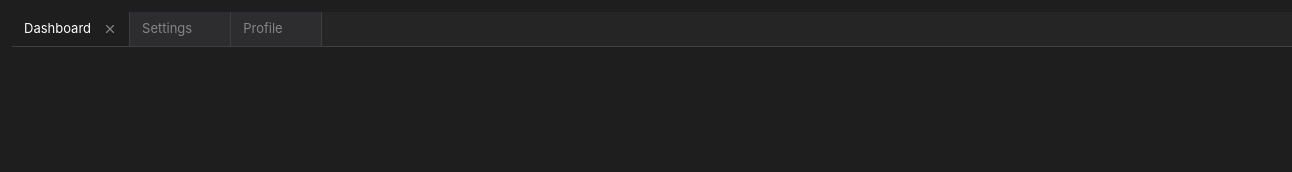
Test: TabBar › context menu › enables Close to the Right when not the last tab
Right-click the tab "Dashboard" at (56, 29), box [12,13,99,45]
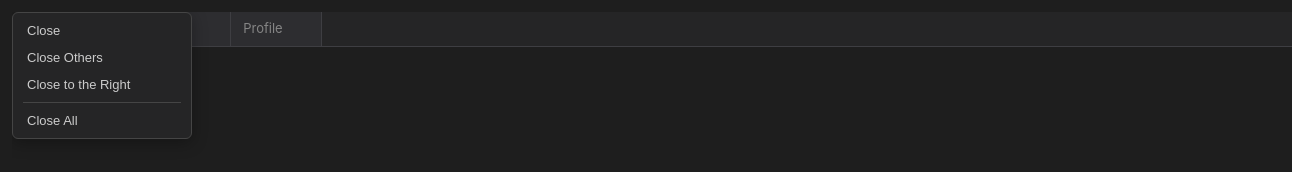
Now the menu item "Close to the Right" is enabled, box [17,71,187,98]
